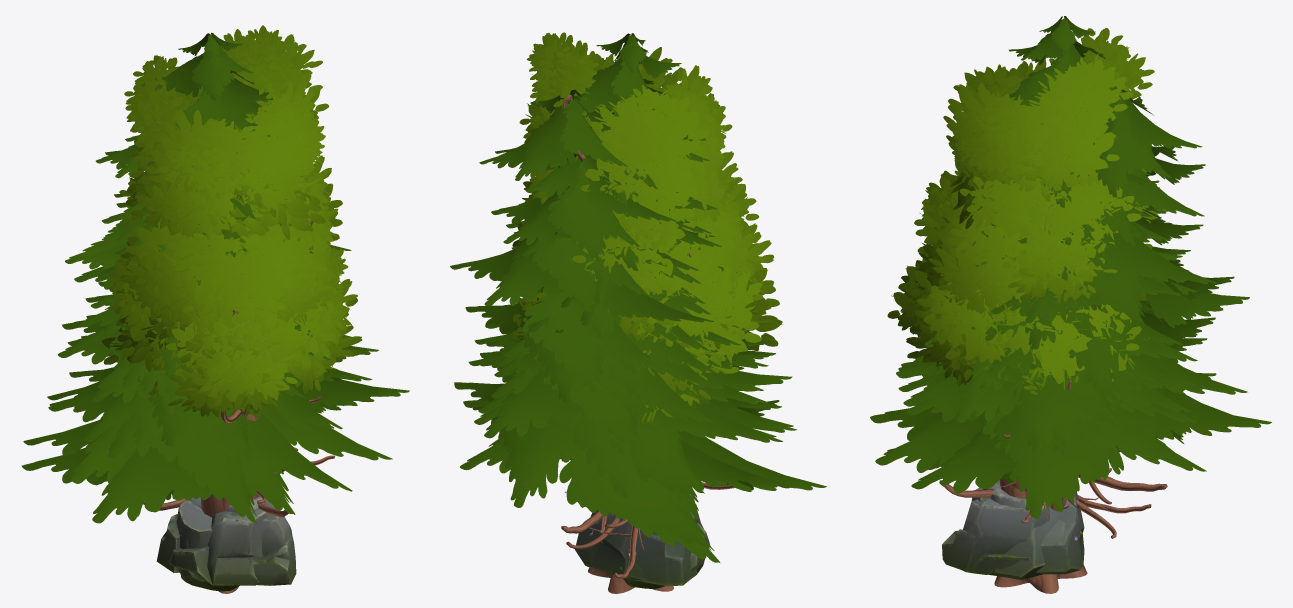
The model's file is nature.glb.
3 views of the same model, side by side, from view 1: azimuth 30°, elevation 25°; view 2: azimuth 150°, elevation 25°; view 3: azimuth 270°, elevation 25° (orthographic). The views are drawn at different scales.
Parts seen in each view (by area): view 1: CommonTree_3, CommonTree_1, Pine_2, CommonTree_4, Pine_5, CommonTree_2, Pine_4, Rock_Medium_1, Pine_1, Rock_Medium_3, CommonTree_5, Rock_Medium_2 (+1 smaller); view 2: Pine_5, Pine_4, Pine_2, CommonTree_3, CommonTree_4, CommonTree_1, CommonTree_2, Pine_1, Rock_Medium_2, CommonTree_5, Pine_3, Rock_Medium_1; view 3: Pine_5, CommonTree_4, CommonTree_2, Pine_2, Pine_4, CommonTree_3, CommonTree_1, Rock_Medium_3, Pine_1, Rock_Medium_2, Rock_Medium_1, CommonTree_5 (+1 smaller).
Boxes of the visible parts, left/top/right/bottom form: CommonTree_3: left=124, top=29, right=348, bottom=376; CommonTree_1: left=102, top=179, right=362, bottom=593; Pine_2: left=21, top=198, right=372, bottom=523; CommonTree_4: left=131, top=25, right=331, bottom=517; Pine_5: left=23, top=86, right=409, bottom=514; CommonTree_2: left=107, top=115, right=357, bottom=593; Pine_4: left=48, top=32, right=351, bottom=510; Rock_Medium_1: left=168, top=496, right=269, bottom=585; Pine_1: left=49, top=195, right=351, bottom=473; Rock_Medium_3: left=179, top=502, right=296, bottom=591; CommonTree_5: left=119, top=172, right=336, bottom=411; Rock_Medium_2: left=156, top=497, right=212, bottom=572; Pine_5: left=450, top=89, right=792, bottom=545; Pine_4: left=474, top=33, right=796, bottom=578; Pine_2: left=460, top=206, right=826, bottom=562; CommonTree_3: left=548, top=40, right=759, bottom=374; CommonTree_4: left=519, top=32, right=732, bottom=255; CommonTree_1: left=522, top=168, right=782, bottom=589; CommonTree_2: left=506, top=167, right=779, bottom=593; Pine_1: left=478, top=195, right=793, bottom=533; Rock_Medium_2: left=575, top=511, right=697, bottom=586; CommonTree_5: left=569, top=216, right=762, bottom=590; Pine_3: left=497, top=191, right=768, bottom=549; Rock_Medium_1: left=590, top=494, right=710, bottom=589; Pine_5: left=887, top=86, right=1271, bottom=518; CommonTree_4: left=943, top=28, right=1154, bottom=238; CommonTree_2: left=887, top=158, right=1149, bottom=593; Pine_2: left=870, top=208, right=1216, bottom=511; Pine_4: left=898, top=16, right=1207, bottom=523; CommonTree_3: left=914, top=41, right=1152, bottom=394; CommonTree_1: left=898, top=158, right=1152, bottom=592; Rock_Medium_3: left=942, top=499, right=1049, bottom=574; Pine_1: left=901, top=204, right=1201, bottom=504; Rock_Medium_2: left=1036, top=491, right=1084, bottom=574; Rock_Medium_1: left=971, top=480, right=1083, bottom=579; CommonTree_5: left=923, top=187, right=1165, bottom=585.
Bounding box in the file's own units: 4.57 × 6.68 × 4.54.
8 materials, 8 textured.
